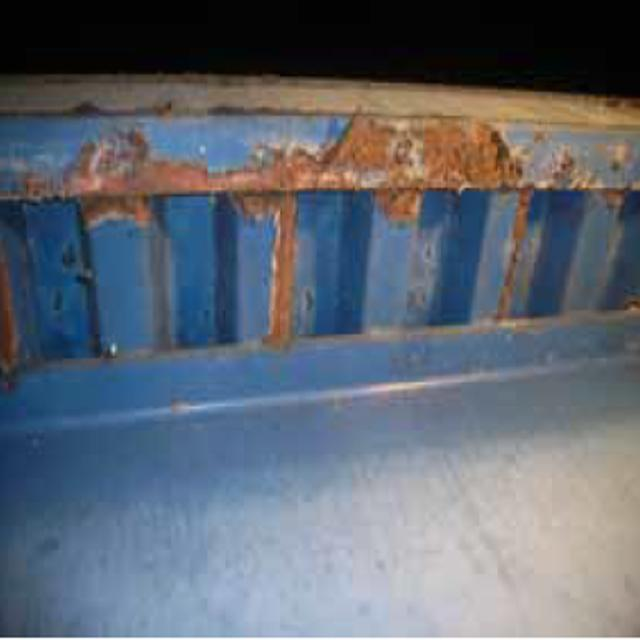corrosion: (8, 84, 593, 366)
